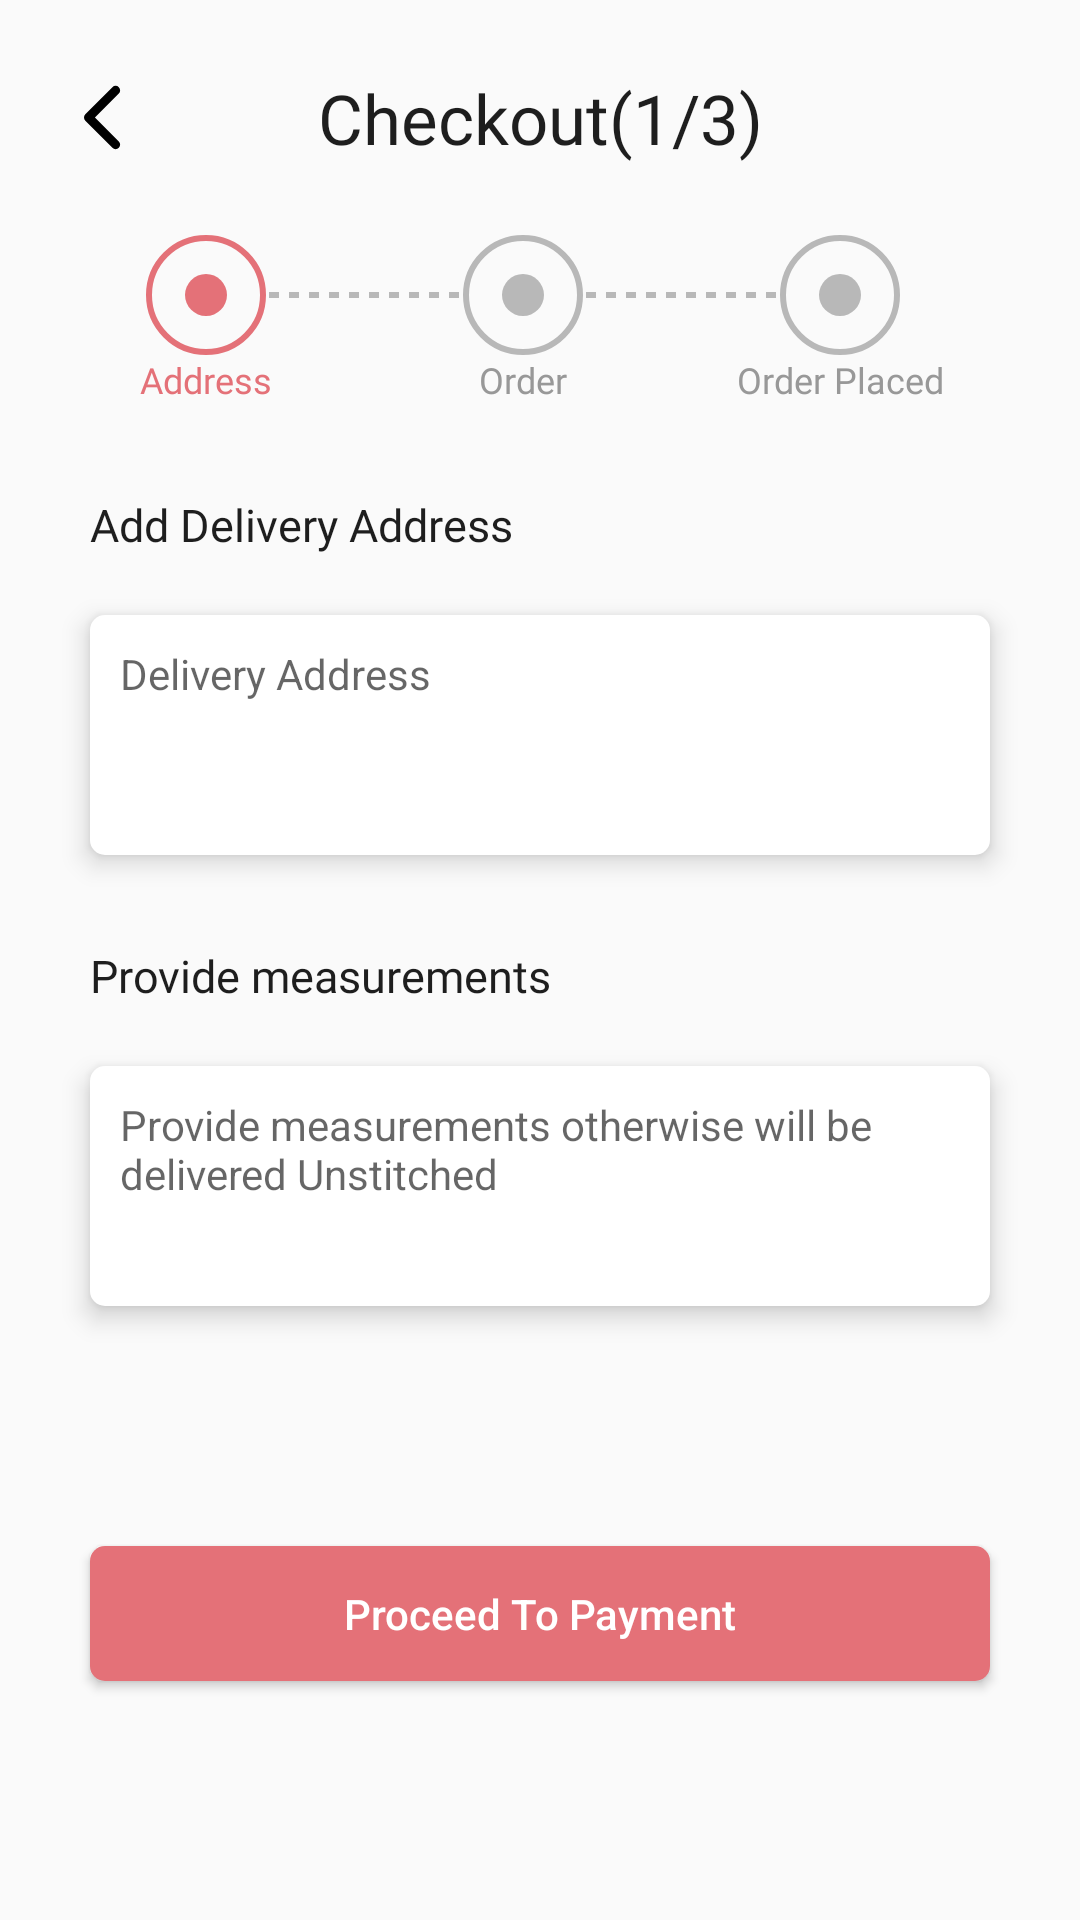

Screen size 1080w x 1920h. Icon name, then its center in pixels as [x,y]:
back: [102,117]
circle: [206,295], [523,295], [840,295]
